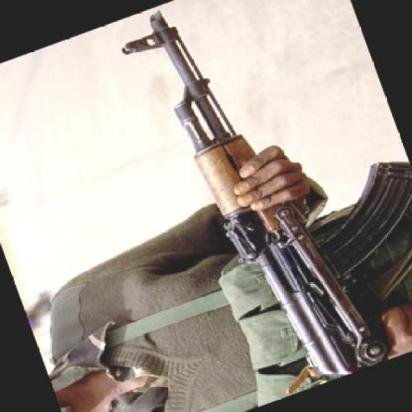Gun: (125, 16, 396, 364)
